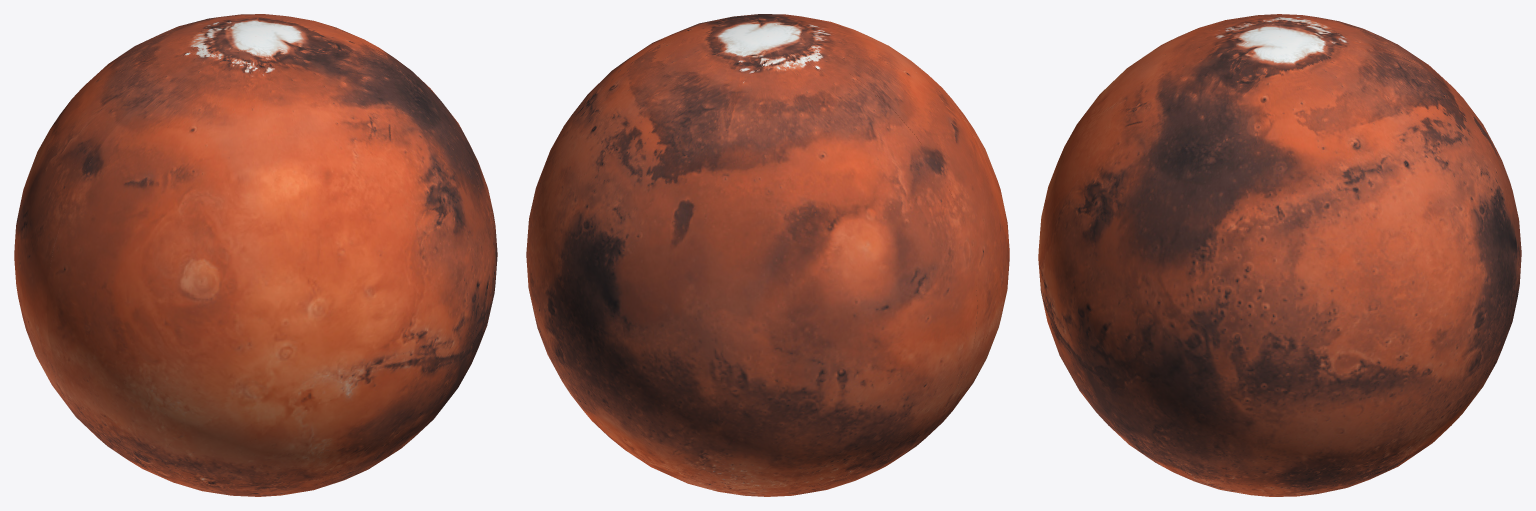
File: mars.glb
3 renders of one model, left to right at view 1: azimuth 30°, elevation 25°; view 2: azimuth 150°, elevation 25°; view 3: azimuth 270°, elevation 25°, orthographic.
Parts seen in each view (by area): view 1: Sphere_Material.002_0.002; view 2: Sphere_Material.002_0.002; view 3: Sphere_Material.002_0.002.
Boxes of the visible parts, bbox=[...] form: Sphere_Material.002_0.002: bbox=[14, 14, 497, 496]; Sphere_Material.002_0.002: bbox=[526, 14, 1009, 496]; Sphere_Material.002_0.002: bbox=[1038, 14, 1521, 496].
Size of the model in its own units: 2.75 by 2.75 by 2.75.
1 material, 1 textured.
